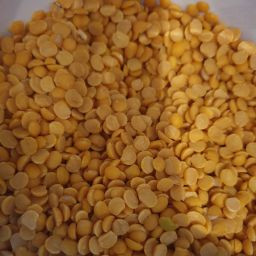Pigeon Pea(toor daal): (7, 10, 254, 256)
